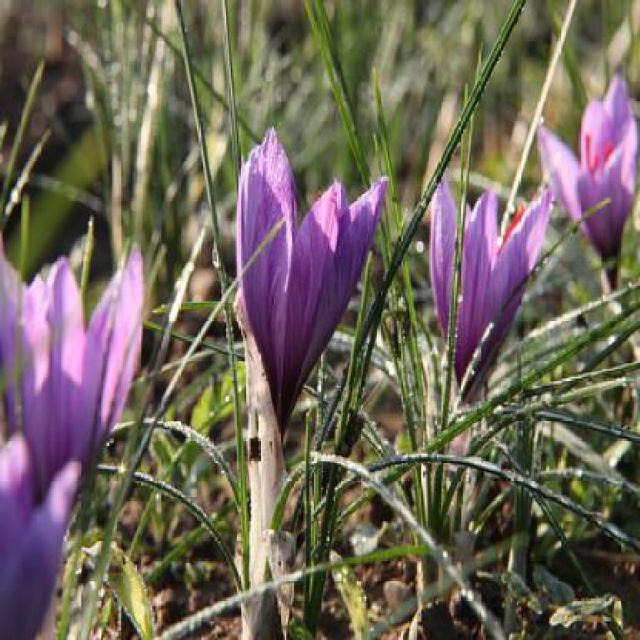Flower: (3, 243, 151, 549), (237, 134, 381, 432), (424, 170, 551, 401), (528, 79, 638, 278)
stigma: (582, 130, 594, 168)
